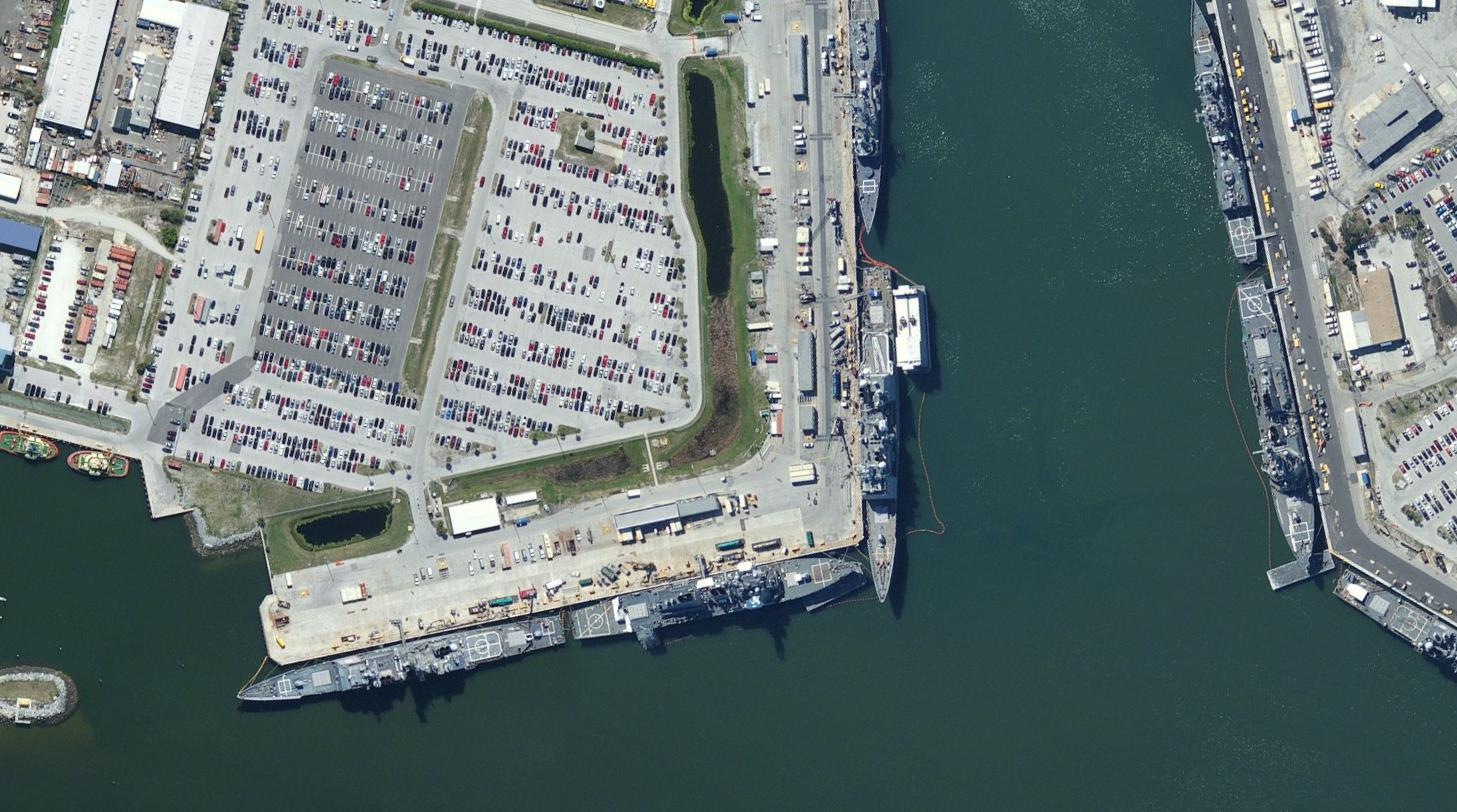destroyer: (226, 602, 569, 714), (570, 542, 866, 647), (845, 257, 910, 611)
fregate: (1227, 272, 1334, 574)
